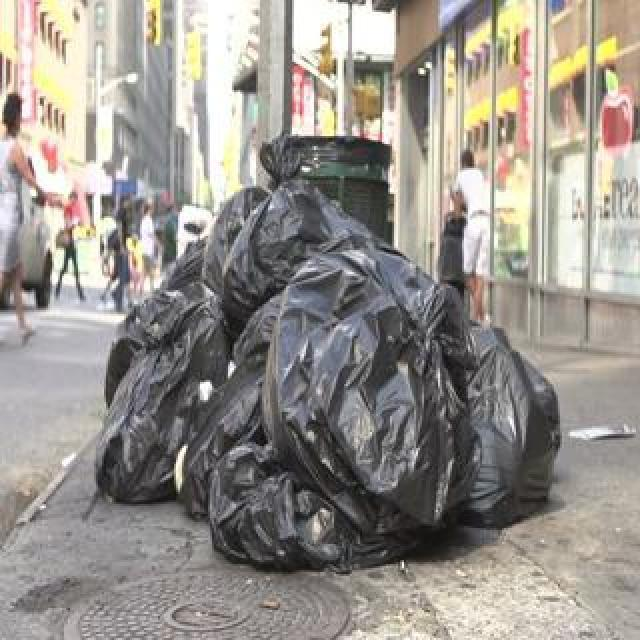Trashbag: (286, 257, 479, 469), (100, 298, 225, 496), (204, 453, 387, 568), (195, 190, 362, 307), (468, 348, 564, 522)
